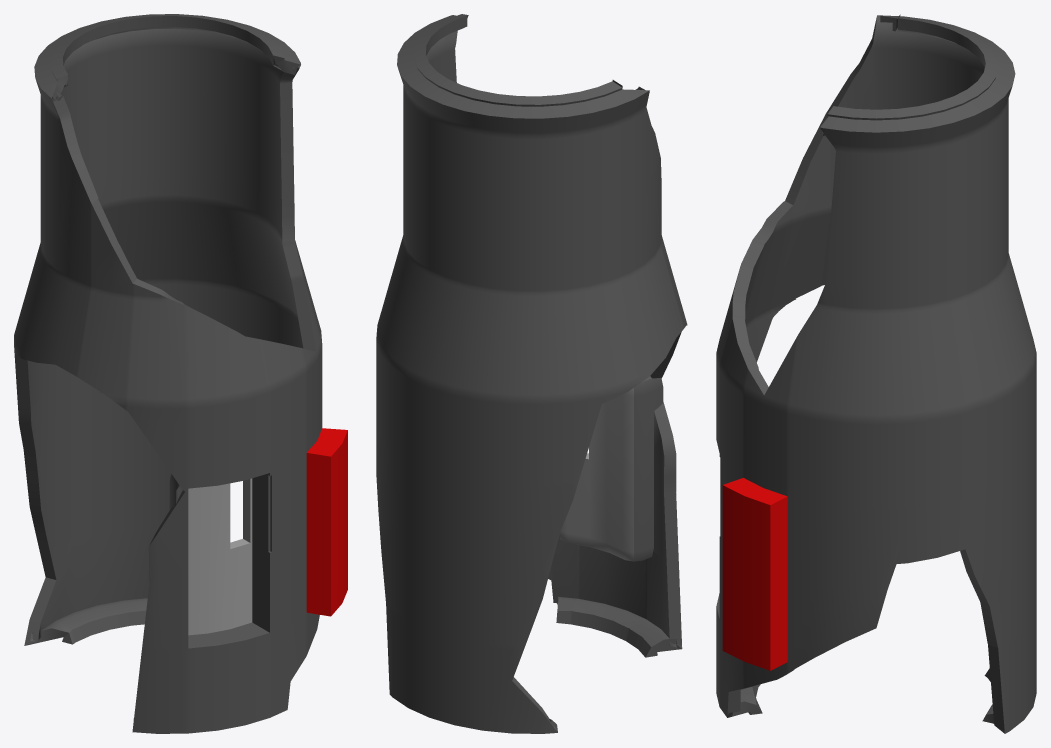
Rendered from PowerRod_destroyed_piece05_.fbx.
3 views of the same model, side by side, from view 1: azimuth 30°, elevation 25°; view 2: azimuth 150°, elevation 25°; view 3: azimuth 270°, elevation 25° (orthographic). The views are drawn at different scales.
Visible parts, largest first — view 1: polySurface54; view 2: polySurface54; view 3: polySurface54.
Part boxes in pixels (x1=…): polySurface54: x1=14, y1=14, x2=347, y2=733; polySurface54: x1=376, y1=14, x2=687, y2=733; polySurface54: x1=716, y1=14, x2=1036, y2=733.
Size of the model in its own units: 24 by 53.06 by 24.19.
